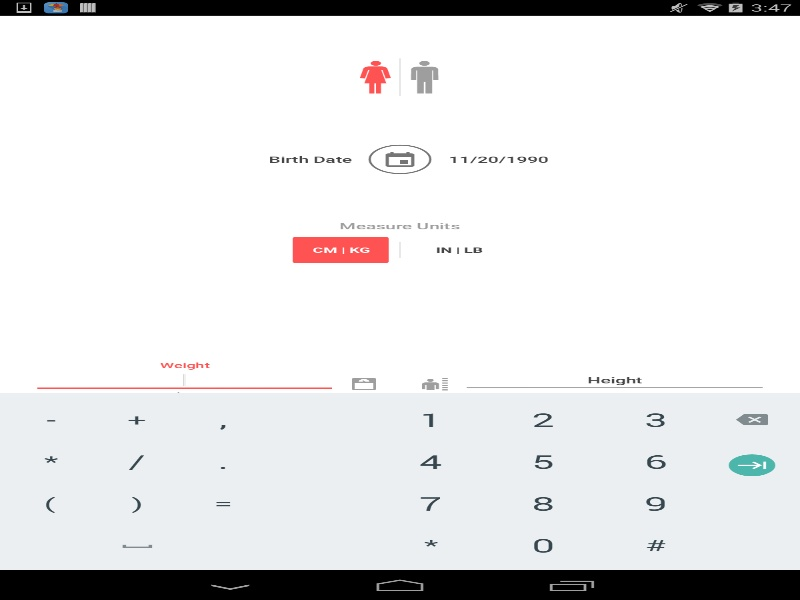Button: (292, 236, 388, 263), (411, 236, 507, 263), (355, 58, 395, 95), (404, 58, 444, 95)
Input: (461, 368, 768, 393), (32, 368, 337, 393)
